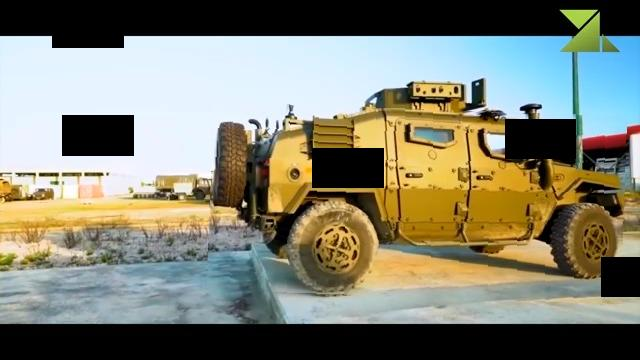MIL_HMMWV: (209, 106, 626, 301)
